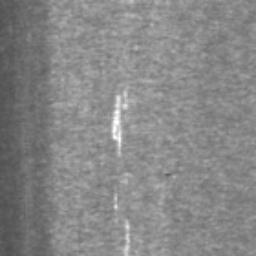White rust: (111, 95, 122, 149), (124, 220, 130, 256)
